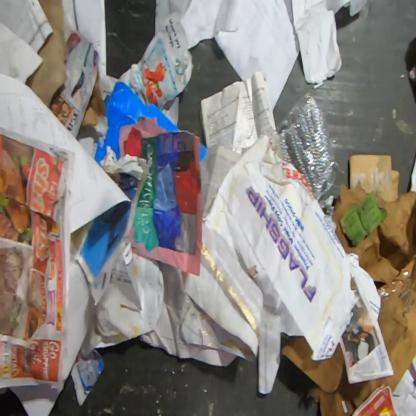cardboard: (280, 179, 415, 415), (94, 81, 182, 169), (349, 154, 400, 203), (80, 68, 105, 127), (200, 144, 207, 164)
rigid_plastic: (269, 91, 337, 202)
